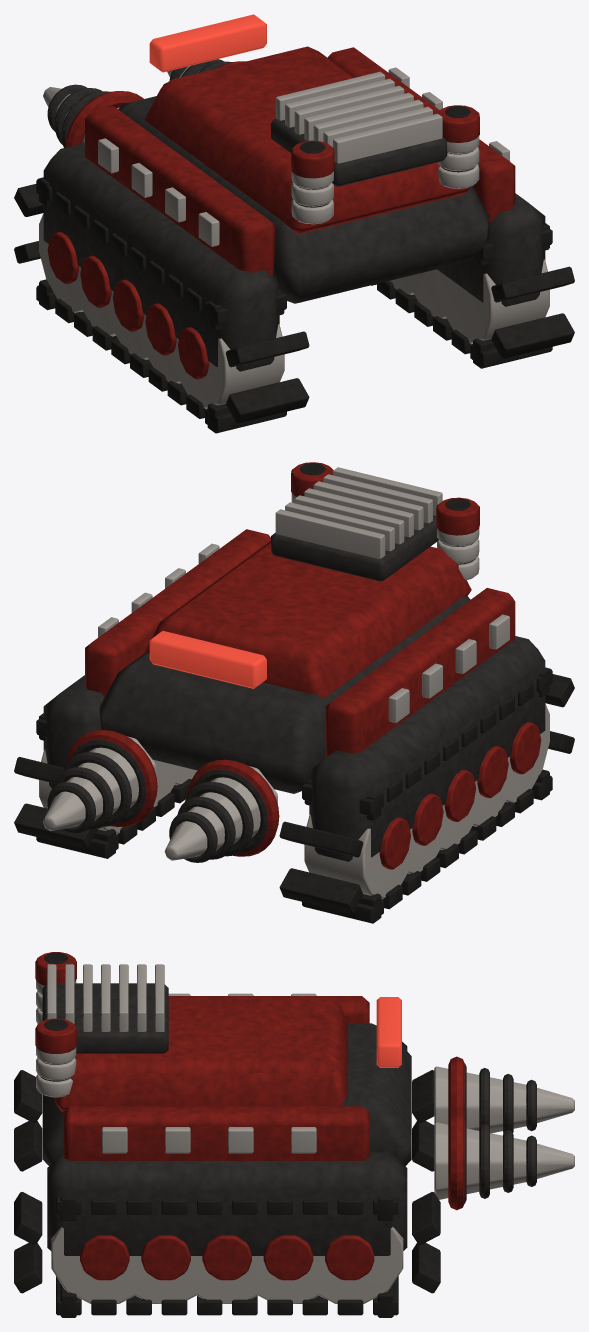
File: kharn_mineur_lourd.gltf
3 renders of one model, top to bottom at view 1: azimuth 30°, elevation 25°; view 2: azimuth 150°, elevation 25°; view 3: azimuth 270°, elevation 25°, orthographic. The views are drawn at different scales.
Parts seen in each view (by area): view 1: Root_Geometry, Track_-0.68_0_Geometry, Track_0.68_0_Geometry, Wheel_-0.67628_0_Geometry, Wheel_0.67628_0_Geometry, Drill_-1_Geometry, Wheel_-0.67628_4_Geometry, Wheel_-0.67628_1_Geometry, Wheel_-0.67628_2_Geometry, Wheel_-0.67628_3_Geometry, Wheel_0.67628_1_Geometry, Drill_1_Geometry; view 2: Root_Geometry, Track_-0.68_0_Geometry, Drill_1_Geometry, Drill_-1_Geometry, Track_0.68_0_Geometry, Wheel_-0.67628_4_Geometry, Wheel_-0.67628_0_Geometry, Wheel_-0.67628_2_Geometry, Wheel_-0.67628_1_Geometry, Wheel_-0.67628_3_Geometry, Wheel_0.67628_3_Geometry; view 3: Root_Geometry, Track_0.68_0_Geometry, Drill_1_Geometry, Drill_-1_Geometry, Wheel_0.67628_0_Geometry, Wheel_0.67628_4_Geometry, Track_-0.68_0_Geometry, Wheel_0.67628_1_Geometry, Wheel_0.67628_3_Geometry, Wheel_0.67628_2_Geometry.
Boxes of the visible parts, bbox=[...] form: Root_Geometry: bbox=[43, 14, 545, 371]; Track_-0.68_0_Geometry: bbox=[14, 177, 309, 433]; Track_0.68_0_Geometry: bbox=[371, 223, 574, 368]; Wheel_-0.67628_0_Geometry: bbox=[171, 324, 284, 408]; Wheel_0.67628_0_Geometry: bbox=[434, 259, 549, 344]; Drill_-1_Geometry: bbox=[43, 84, 143, 147]; Wheel_-0.67628_4_Geometry: bbox=[39, 213, 88, 312]; Wheel_-0.67628_1_Geometry: bbox=[138, 303, 185, 383]; Wheel_-0.67628_2_Geometry: bbox=[106, 279, 148, 359]; Wheel_-0.67628_3_Geometry: bbox=[78, 255, 120, 336]; Wheel_0.67628_1_Geometry: bbox=[413, 270, 456, 318]; Drill_1_Geometry: bbox=[167, 59, 245, 80]; Root_Geometry: bbox=[43, 462, 545, 861]; Track_-0.68_0_Geometry: bbox=[279, 667, 574, 923]; Drill_1_Geometry: bbox=[43, 730, 157, 833]; Drill_-1_Geometry: bbox=[164, 759, 279, 862]; Track_0.68_0_Geometry: bbox=[14, 713, 191, 858]; Wheel_-0.67628_4_Geometry: bbox=[304, 814, 417, 898]; Wheel_-0.67628_0_Geometry: bbox=[500, 704, 549, 802]; Wheel_-0.67628_2_Geometry: bbox=[435, 769, 482, 849]; Wheel_-0.67628_1_Geometry: bbox=[472, 746, 515, 826]; Wheel_-0.67628_3_Geometry: bbox=[404, 793, 443, 873]; Wheel_0.67628_3_Geometry: bbox=[153, 759, 181, 806]; Root_Geometry: bbox=[35, 952, 411, 1255]; Track_0.68_0_Geometry: bbox=[14, 1192, 440, 1317]; Drill_1_Geometry: bbox=[434, 1112, 574, 1210]; Drill_-1_Geometry: bbox=[434, 1056, 574, 1133]; Wheel_0.67628_0_Geometry: bbox=[51, 1227, 150, 1303]; Wheel_0.67628_4_Geometry: bbox=[303, 1227, 403, 1303]; Track_-0.68_0_Geometry: bbox=[14, 1070, 434, 1171]; Wheel_0.67628_1_Geometry: bbox=[120, 1235, 212, 1303]; Wheel_0.67628_3_Geometry: bbox=[242, 1235, 334, 1303]; Wheel_0.67628_2_Geometry: bbox=[181, 1235, 273, 1303].
Size of the model in its own units: 1.73 by 1.31 by 2.63.
5 materials, 3 textured.
